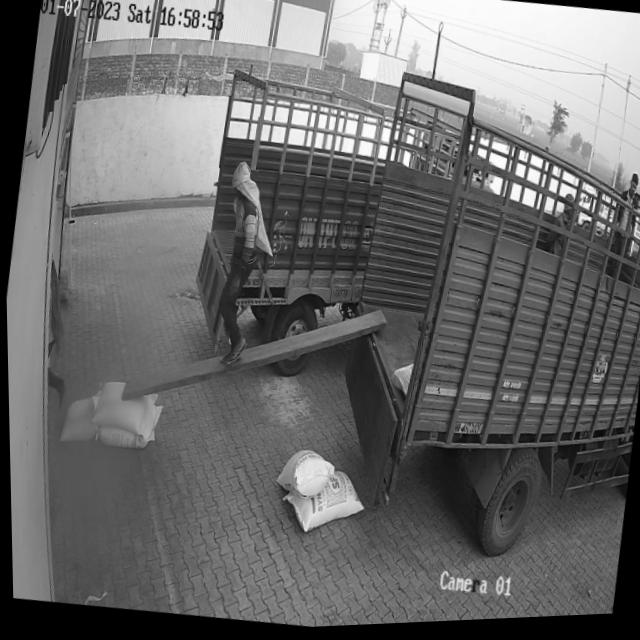sack: (276, 465, 367, 543), (87, 377, 158, 439), (92, 397, 162, 453), (273, 448, 334, 505), (55, 393, 101, 447)
